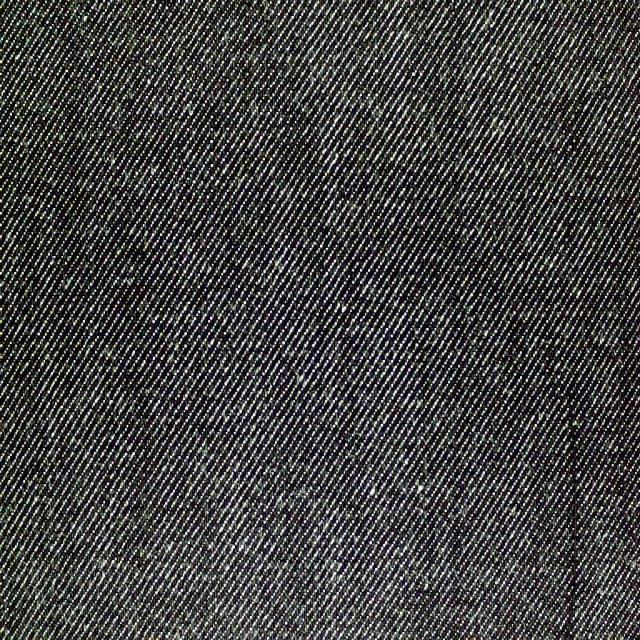defect: (556, 399, 584, 640)
